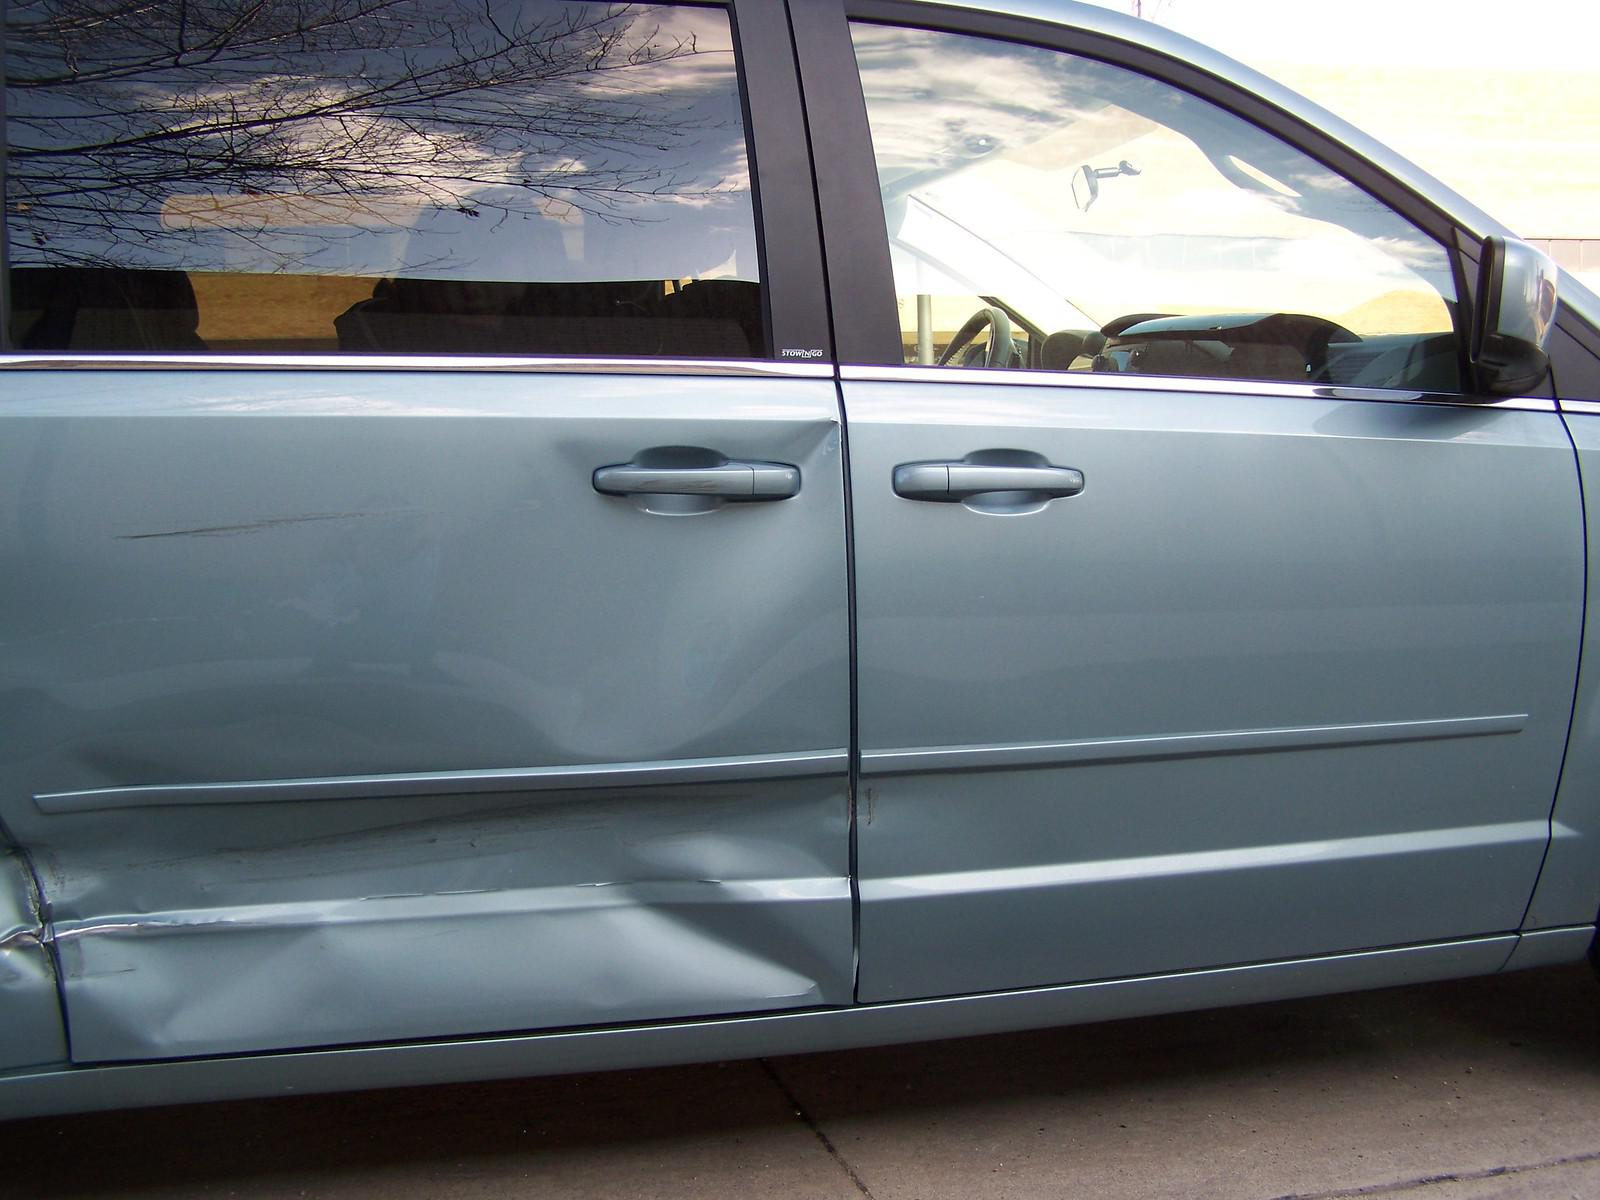doorouter-dent: (0, 277, 867, 1093)
